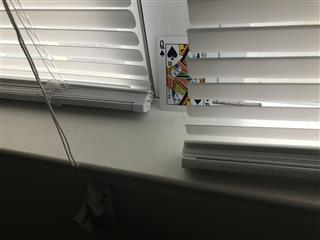QueenOfSpades: (156, 35, 212, 111)
